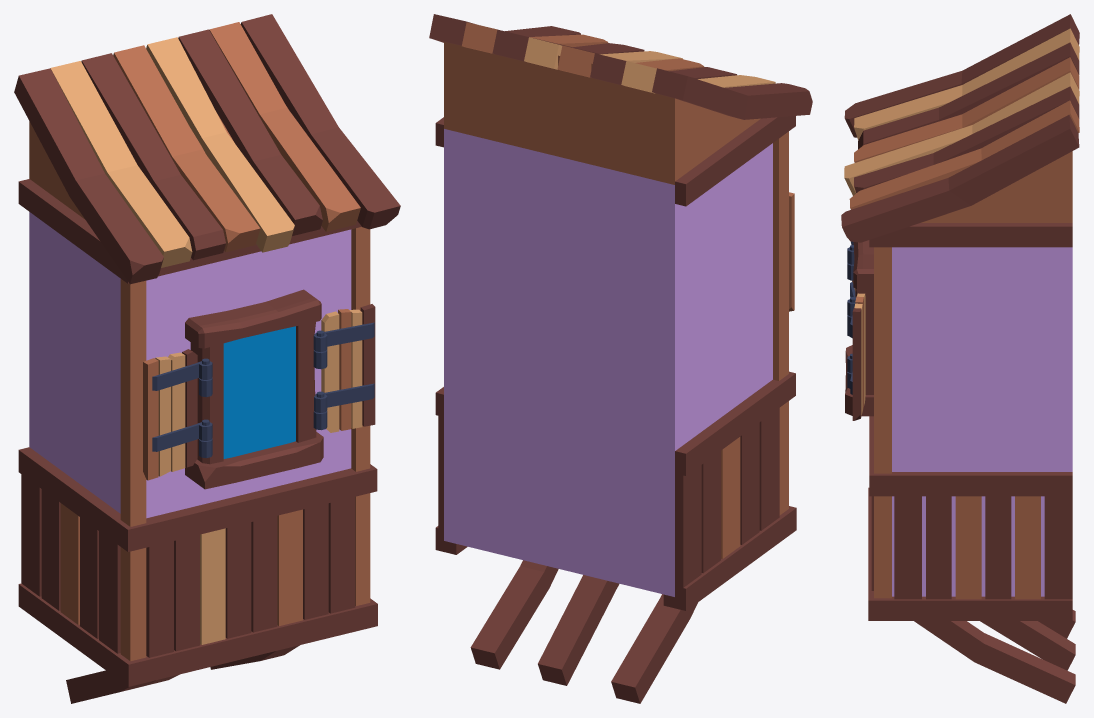
File: Building Addon 02.fbx
3 views of the same model, side by side, from view 1: azimuth 30°, elevation 25°; view 2: azimuth 150°, elevation 25°; view 3: azimuth 270°, elevation 25° (orthographic). The views are drawn at different scales.
Parts seen in each view (by area): view 1: Building Addon 02, WindowSiding 01.023, WindowSiding 02.023; view 2: Building Addon 02, WindowSiding 01.023; view 3: Building Addon 02, WindowSiding 02.023.
Part boxes in pixels (x1,y1,x2,y2): Building Addon 02: [14, 14, 400, 703]; WindowSiding 01.023: [143, 349, 212, 480]; WindowSiding 02.023: [313, 304, 375, 432]; Building Addon 02: [429, 14, 812, 703]; WindowSiding 01.023: [789, 192, 794, 311]; Building Addon 02: [841, 14, 1079, 703]; WindowSiding 02.023: [847, 293, 865, 420].
Bounding box in the file's own units: 298 × 690 × 252.
